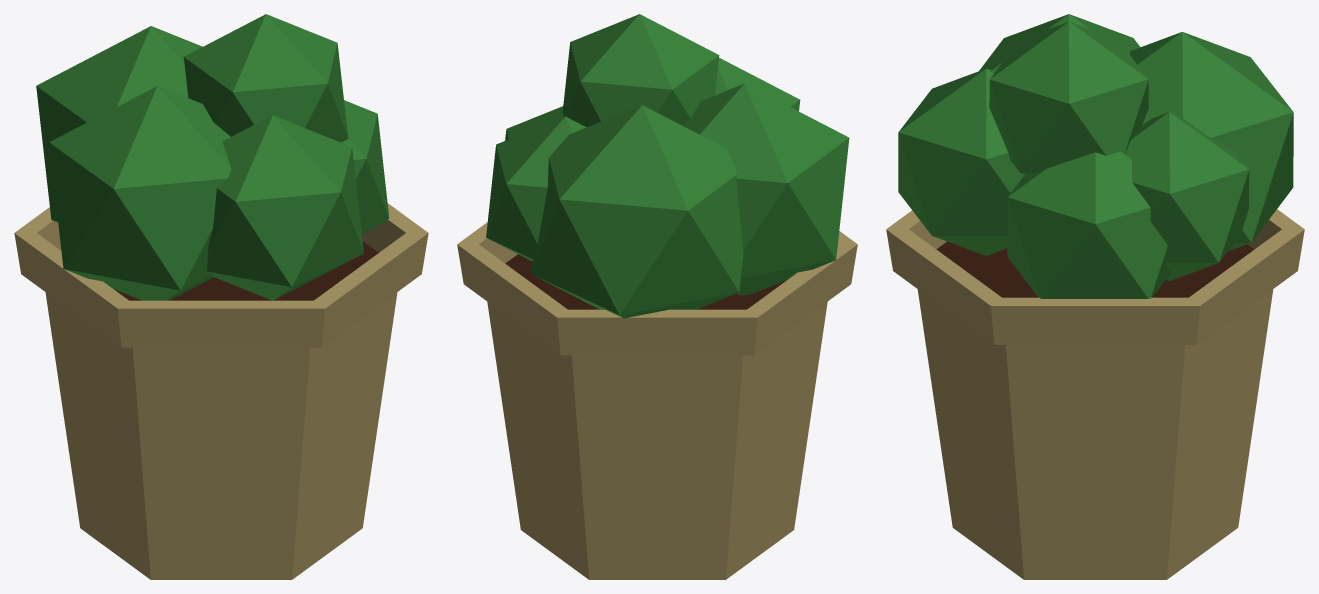
The model's file is pandemonium_plant_02.fbx.
3 renders of one model, left to right at view 1: azimuth 30°, elevation 25°; view 2: azimuth 150°, elevation 25°; view 3: azimuth 270°, elevation 25°, orthographic. The views are drawn at different scales.
Visible parts, largest first — view 1: Cylinder.057; view 2: Cylinder.057; view 3: Cylinder.057.
Boxes of the visible parts, x1,y1,x2,y2 form: Cylinder.057: (14,14,428,579); Cylinder.057: (457,14,857,579); Cylinder.057: (886,14,1304,579).
Size of the model in its own units: 33.04 by 49.75 by 36.19.
